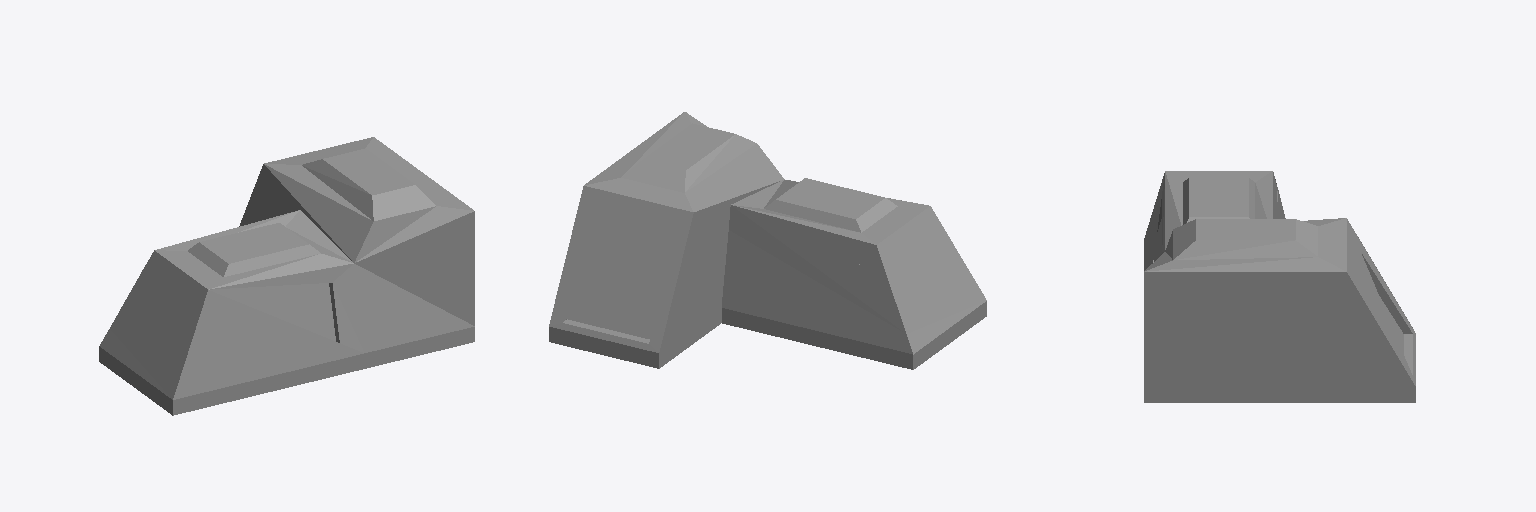
File: mercado.obj
The picture shows the model from 3 angles: view 1: azimuth 30°, elevation 25°; view 2: azimuth 150°, elevation 25°; view 3: azimuth 270°, elevation 25°; orthographic projection.
Visible parts, largest first — view 1: Cube; view 2: Cube; view 3: Cube.
Boxes of the visible parts, x1,y1,x2,y2 form: Cube: [99, 137, 474, 415]; Cube: [549, 112, 986, 369]; Cube: [1144, 171, 1415, 402].
Size of the model in its own units: 5.48 by 2.53 by 4.27.